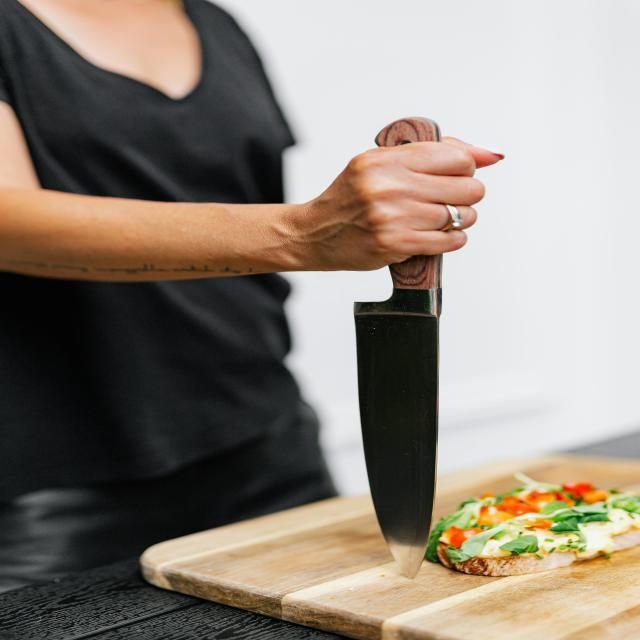knife: (350, 113, 443, 575)
